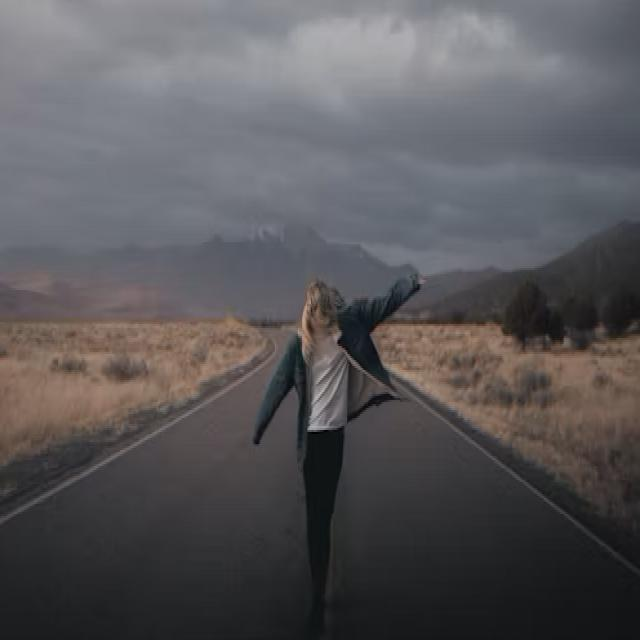Edited images: (244, 250, 431, 632)
